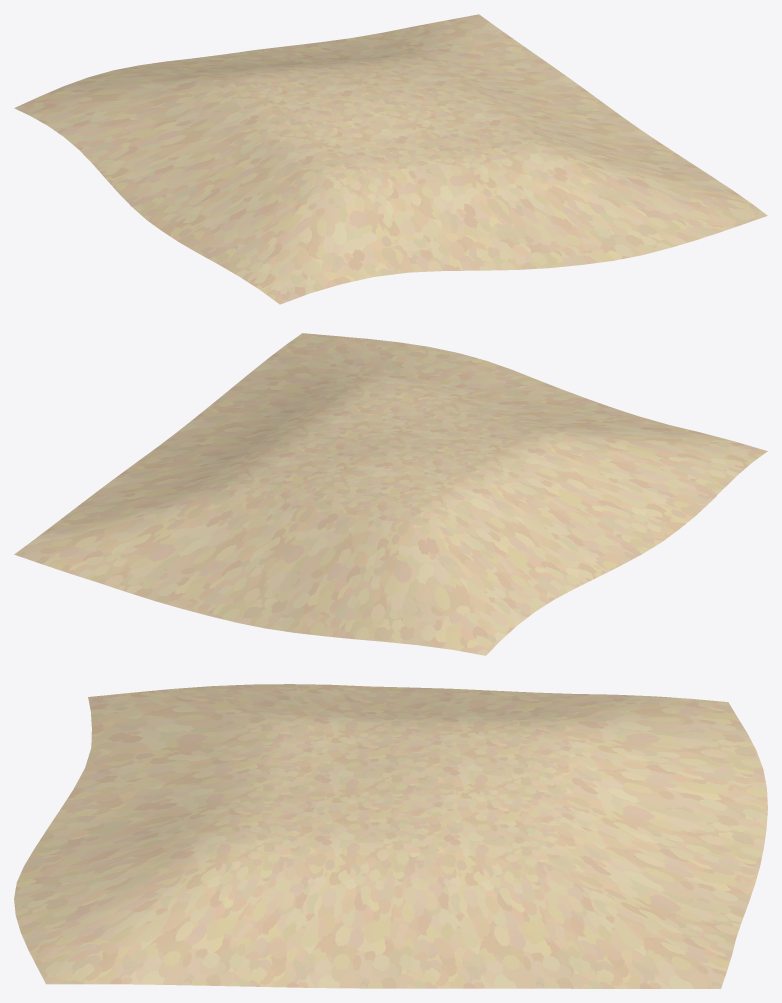
File: SandPlane.fbx
The picture shows the model from 3 angles, top to bottom: view 1: azimuth 30°, elevation 25°; view 2: azimuth 150°, elevation 25°; view 3: azimuth 270°, elevation 25°; orthographic projection. The views are drawn at different scales.
Parts seen in each view (by area): view 1: Plane; view 2: Plane; view 3: Plane.
Part boxes in pixels (x1,y1,x2,y2): Plane: [14, 14, 767, 304]; Plane: [14, 333, 767, 655]; Plane: [14, 684, 767, 988].
Bounding box in the file's own units: 4299 × 560 × 4871.
